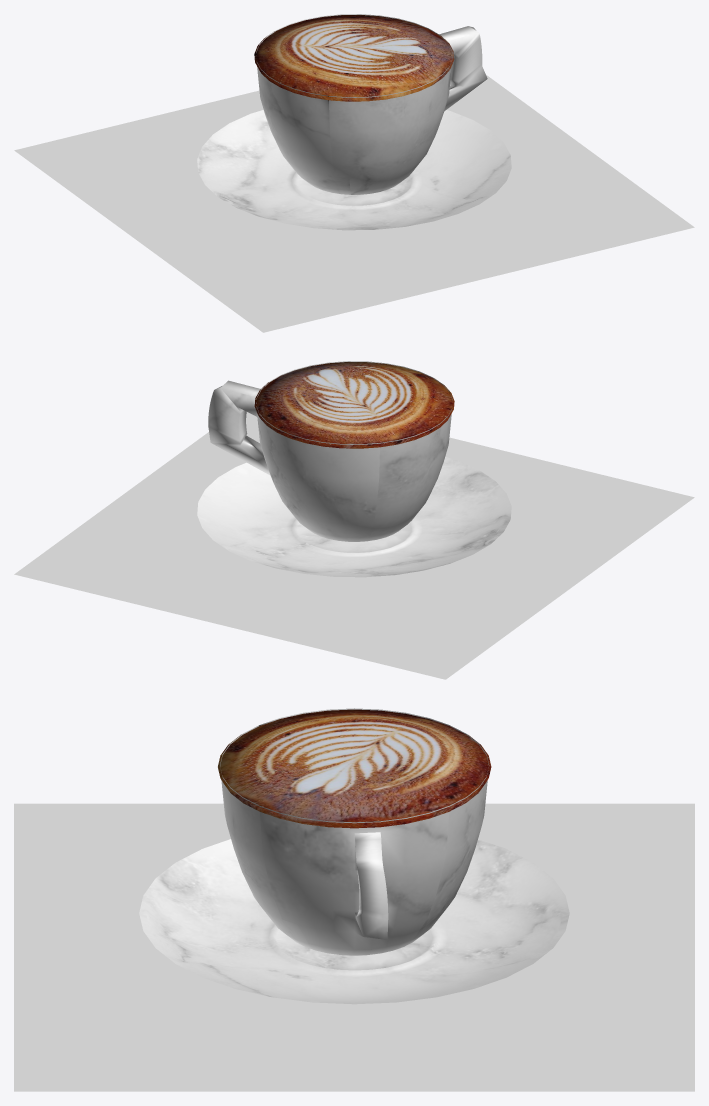
Rendered from cangkir.gltf.
The picture shows the model from 3 angles, top to bottom: view 1: azimuth 30°, elevation 25°; view 2: azimuth 150°, elevation 25°; view 3: azimuth 270°, elevation 25°; orthographic projection. The views are drawn at different scales.
Parts seen in each view (by area): view 1: Plane, Circle, Cylinder, Cylinder.001; view 2: Plane, Circle, Cylinder, Cylinder.001; view 3: Plane, Circle, Cylinder, Cylinder.001.
Boxes of the visible parts, <box> form: Plane: <box>14,75,694,332</box>; Circle: <box>197,110,511,230</box>; Cylinder: <box>256,14,487,194</box>; Cylinder.001: <box>254,15,454,101</box>; Plane: <box>14,412,694,679</box>; Circle: <box>197,457,511,577</box>; Cylinder: <box>208,361,452,541</box>; Cylinder.001: <box>254,362,454,448</box>; Plane: <box>14,803,694,1091</box>; Circle: <box>139,839,569,1004</box>; Cylinder: <box>220,708,489,955</box>; Cylinder.001: <box>218,709,491,828</box>.
Size of the model in its own units: 2 by 0.623 by 2.
Materials: 3 (3 with a texture image).
